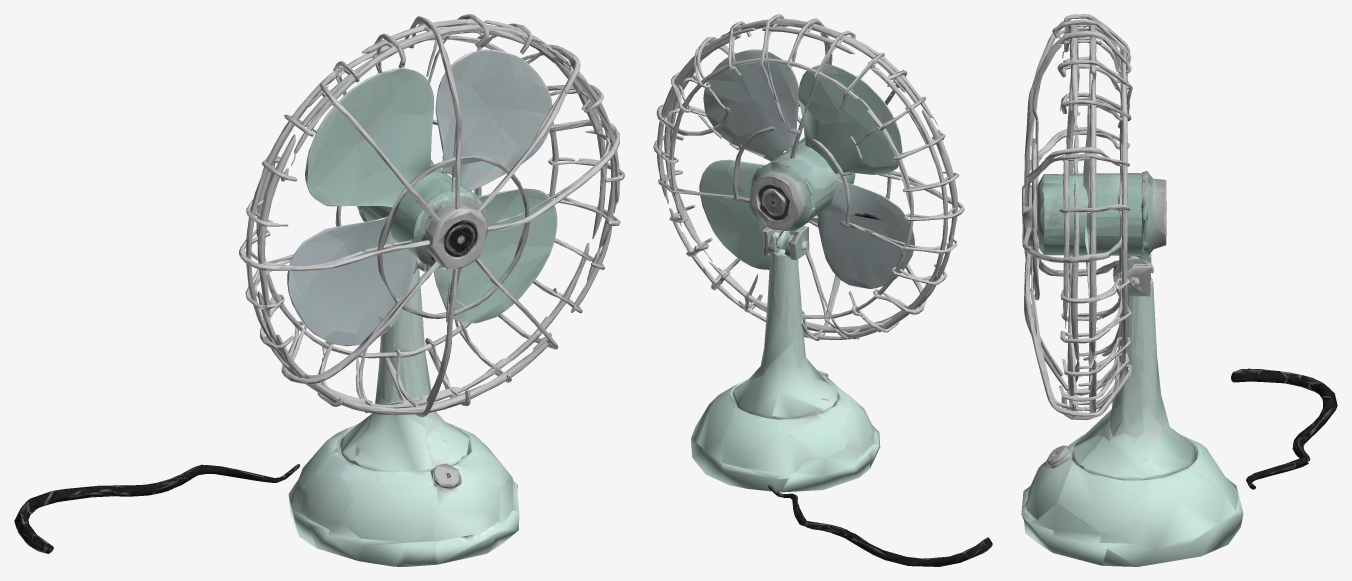
The model's file is fan.glb.
3 renders of one model, left to right at view 1: azimuth 30°, elevation 25°; view 2: azimuth 150°, elevation 25°; view 3: azimuth 270°, elevation 25°, orthographic. The views are drawn at different scales.
Size of the model in its own units: 1.9 by 1.89 by 1.1.
1 material, 1 textured.
